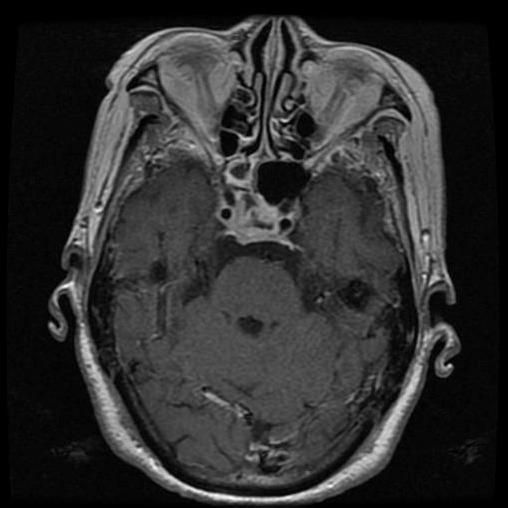Tumour-Pituitary: (207, 201, 301, 250)
